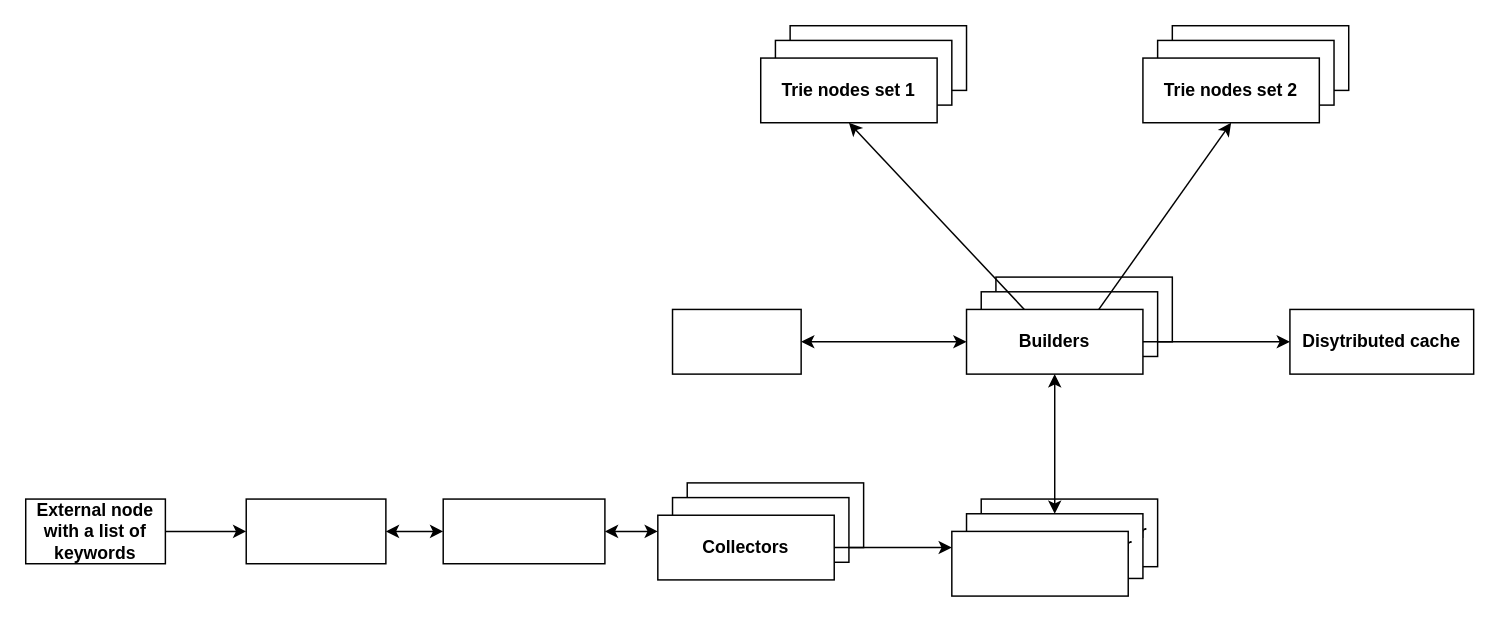
Some shapes in this 1499 by 622 pixel diagram are drawn without their labels. Here are the shapes that lost their labels. From the top down, the centre of each, then its label:
At [736,341]: "Zookeeper".
At [315,531]: "Gateway".
At [523,531]: "Load Balancer".
At [1039,563]: "Database".
